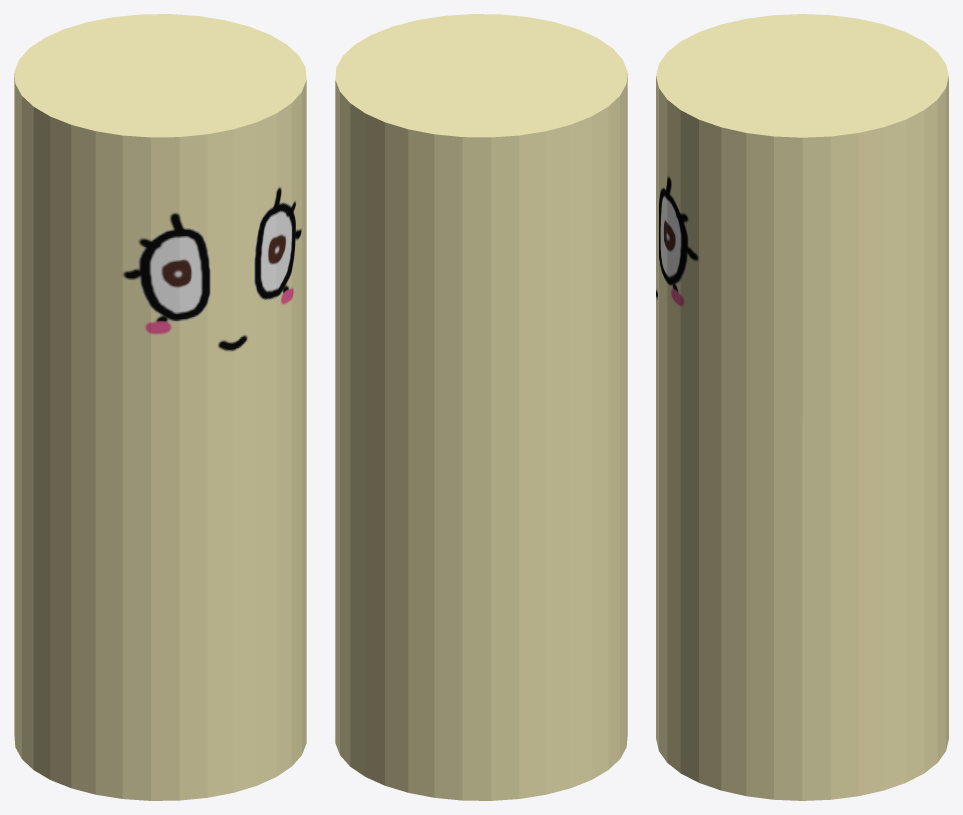
File: player.fbx
3 views of the same model, side by side, from view 1: azimuth 30°, elevation 25°; view 2: azimuth 150°, elevation 25°; view 3: azimuth 270°, elevation 25° (orthographic).
Visible parts, largest first — view 1: Cylinder; view 2: Cylinder; view 3: Cylinder.
Part boxes in pixels (box(x1,y1,x2,y2)): Cylinder: box(14, 14, 306, 800); Cylinder: box(335, 14, 627, 800); Cylinder: box(656, 14, 948, 800).
Bounding box in the file's own units: 200 × 500 × 200.
1 material, 1 textured.
